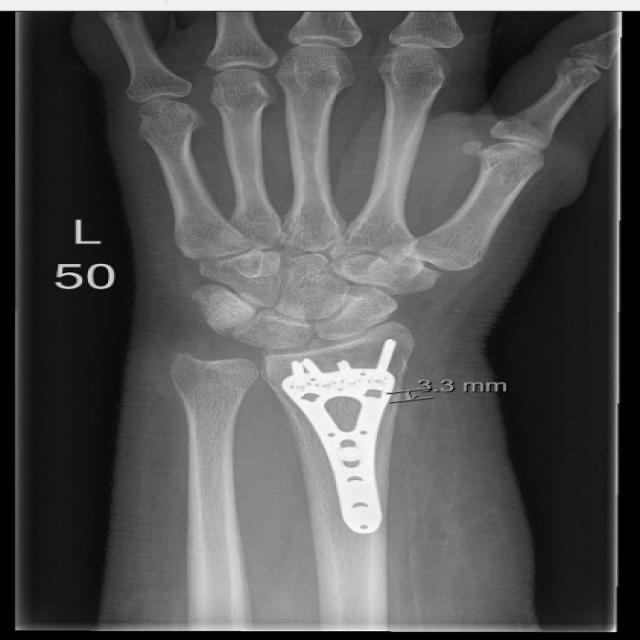x-ray: (262, 338, 434, 545)
